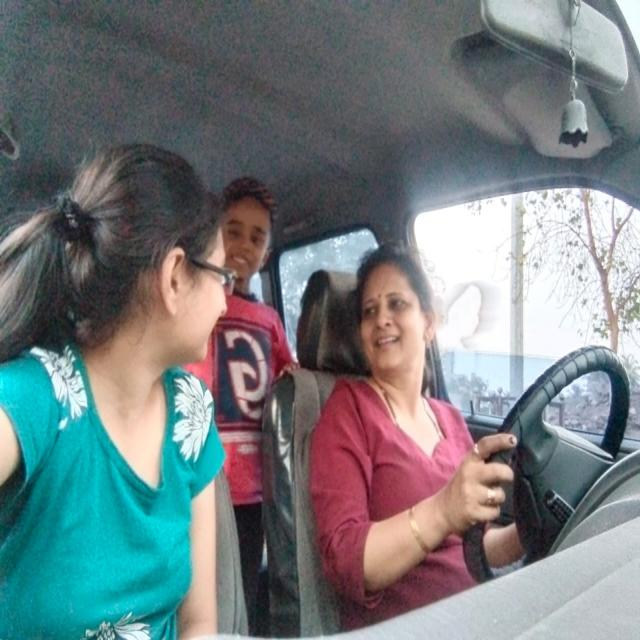LeftRight: (351, 244, 435, 383)
person: (73, 143, 235, 370), (220, 180, 275, 284)
talking: (369, 328, 402, 350)
